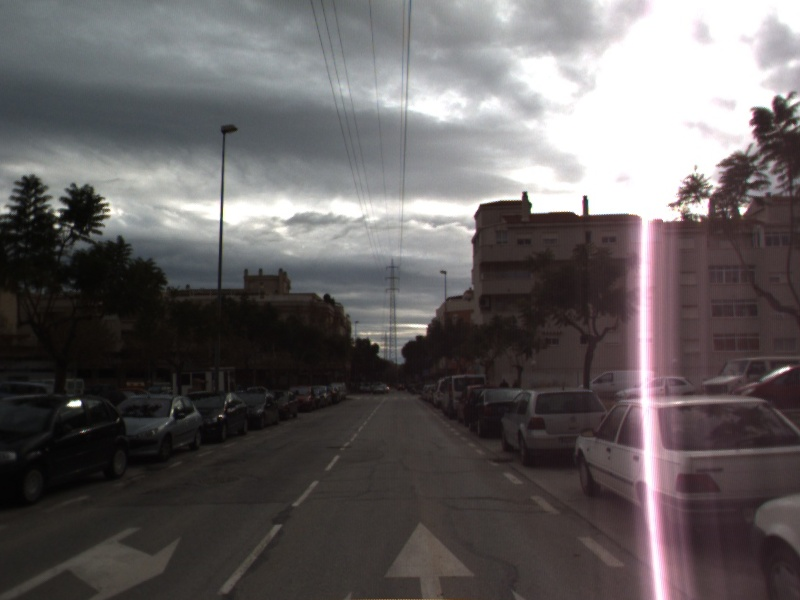STRAIGHT: (380, 516, 480, 600)
